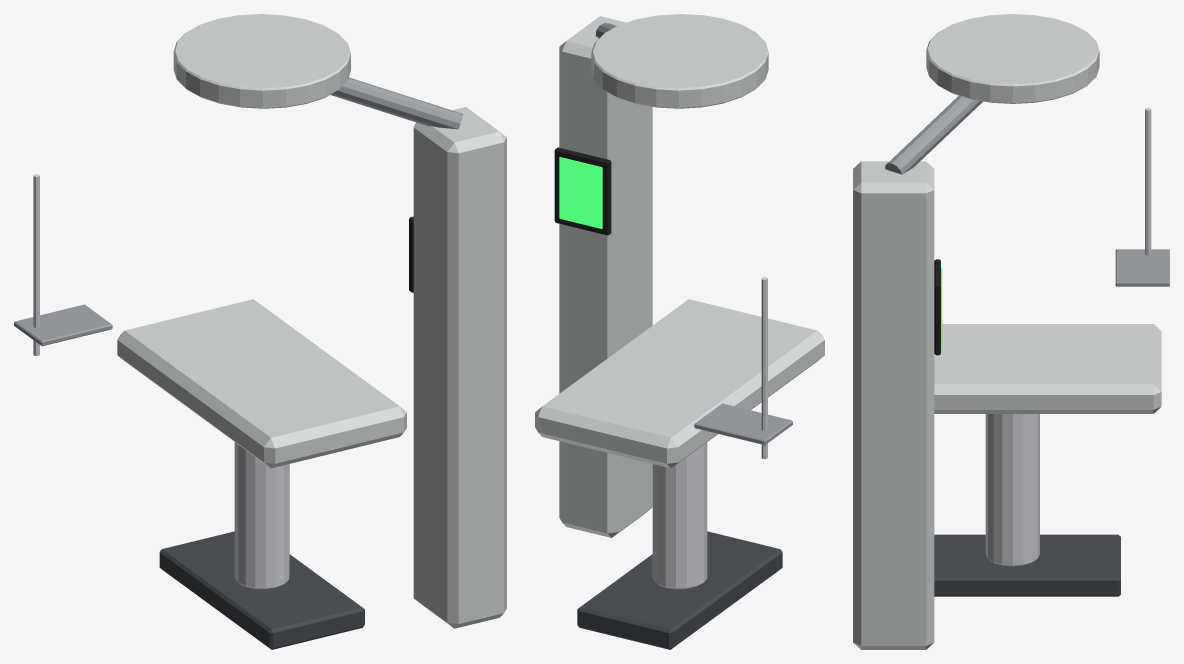
Rendered from surgery_unit.glb.
3 renders of one model, left to right at view 1: azimuth 30°, elevation 25°; view 2: azimuth 150°, elevation 25°; view 3: azimuth 270°, elevation 25°, orthographic. The views are drawn at different scales.
Visible parts, largest first — view 1: surgery_unit; view 2: surgery_unit; view 3: surgery_unit.
Boxes of the visible parts, x1,y1,x2,y2 form: surgery_unit: [14, 14, 506, 649]; surgery_unit: [535, 14, 824, 649]; surgery_unit: [853, 14, 1169, 649].
Size of the model in its own units: 1.4 by 2.2 by 1.2.
